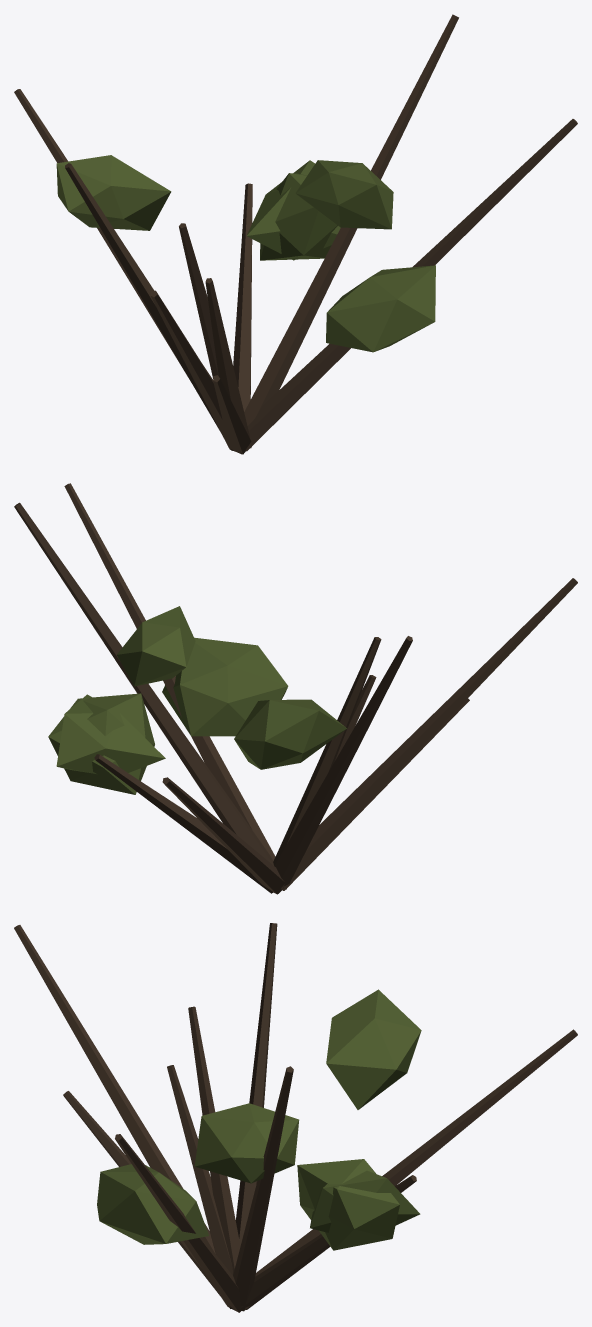
Rendered from Bush_Dead.fbx.
The picture shows the model from 3 angles, top to bottom: view 1: azimuth 30°, elevation 25°; view 2: azimuth 150°, elevation 25°; view 3: azimuth 270°, elevation 25°; orthographic projection. The views are drawn at different scales.
Visible parts, largest first — view 1: Bush_Dead; view 2: Bush_Dead; view 3: Bush_Dead.
Part boxes in pixels (x1,y1,x2,y2): Bush_Dead: [14, 14, 577, 454]; Bush_Dead: [14, 483, 577, 894]; Bush_Dead: [14, 923, 577, 1312].
Bounding box in the file's own units: 1.12 × 0.8064 × 1.14.
